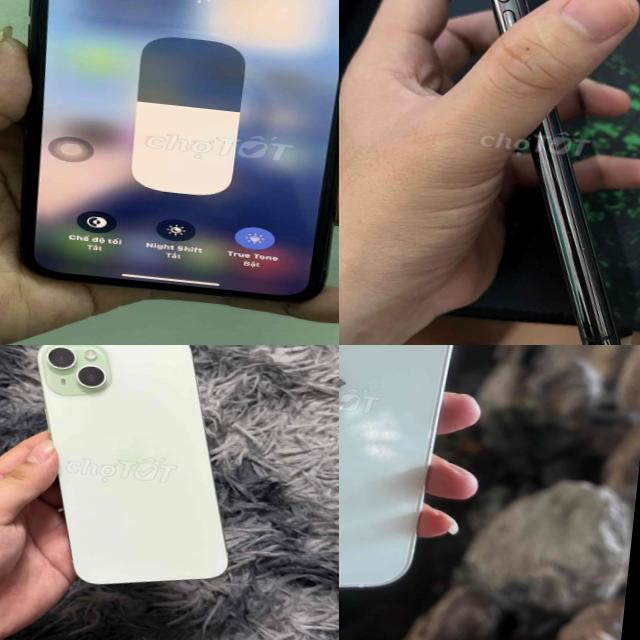gen_11: (528, 109, 621, 345)
gen_15: (9, 345, 254, 601), (339, 345, 489, 640)
gen_x_xs: (0, 0, 339, 317)
scratch: (558, 220, 596, 262), (339, 357, 355, 422)
